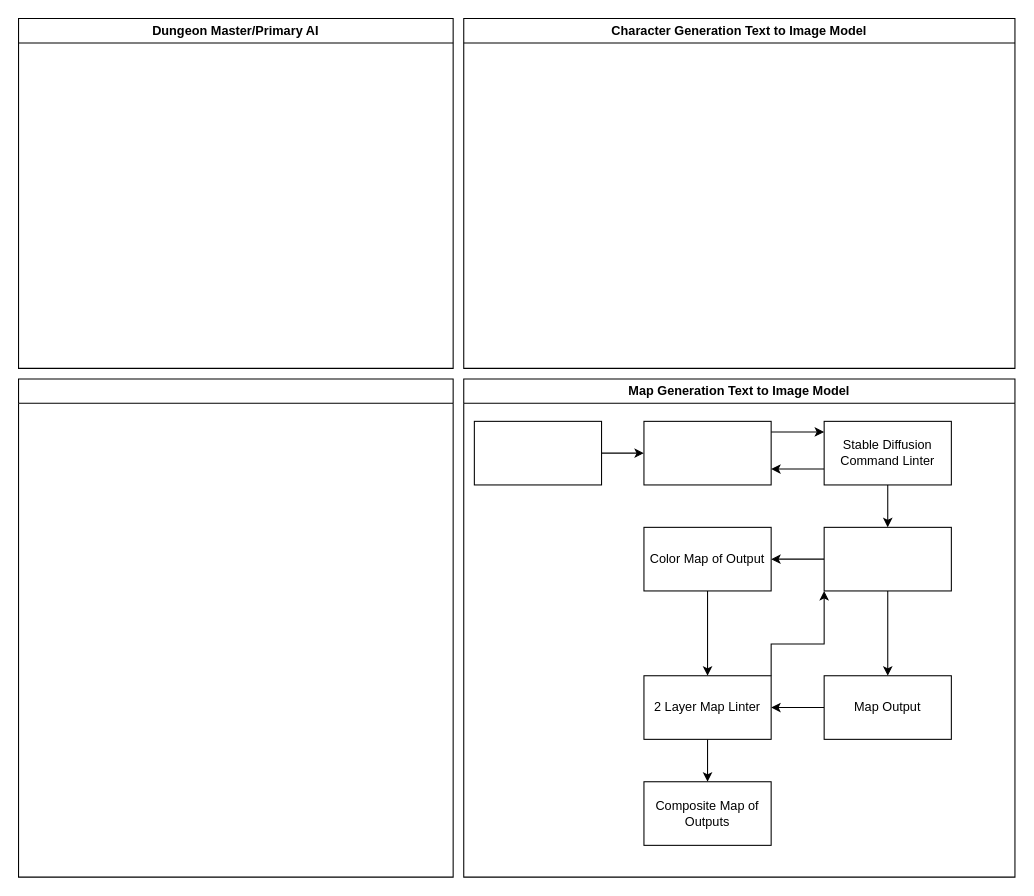
The diagram is 1034 pixels wide and 896 high, and some of its shapes have lost their labels. Here are the shapes that lost their labels. From the top down, the centre of each, then its label:
(x=537, y=452): User Input
(x=707, y=452): LLM Input to Command fxn
(x=887, y=558): Stable Diffusion
(x=235, y=627): Item Generation Text to Image Model
